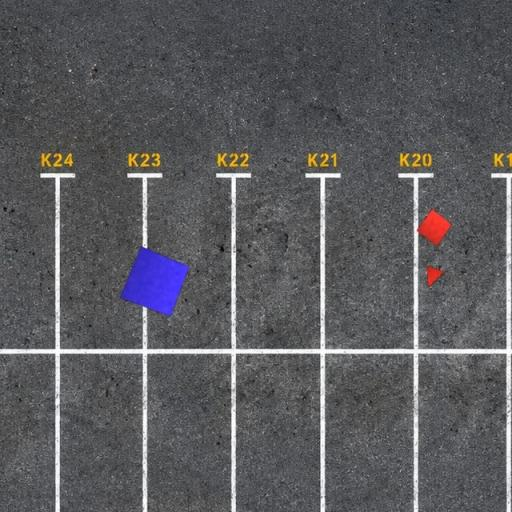BLUE_SQUARE: (119, 246, 190, 318)
RED_SQUARE: (416, 208, 453, 247)
